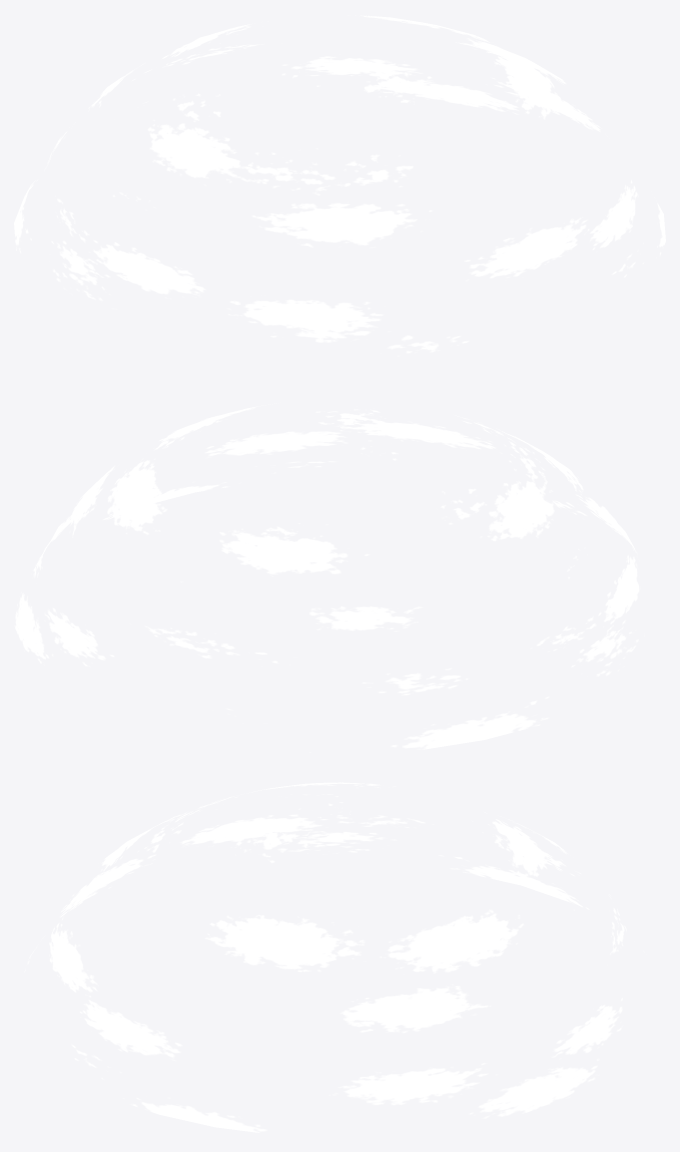
Rendered from cloud.glb.
3 renders of one model, top to bottom at view 1: azimuth 30°, elevation 25°; view 2: azimuth 150°, elevation 25°; view 3: azimuth 270°, elevation 25°, orthographic.
Visible parts, largest first — view 1: Sphere.004; view 2: Sphere.004; view 3: Sphere.004.
Part boxes in pixels (left/top/right/bottom): Sphere.004: left=14, top=15, right=665, bottom=356; Sphere.004: left=14, top=403, right=644, bottom=752; Sphere.004: left=24, top=782, right=644, bottom=1132.
Size of the model in its own units: 389 by 115 by 389.
Materials: 1 (1 with a texture image).
